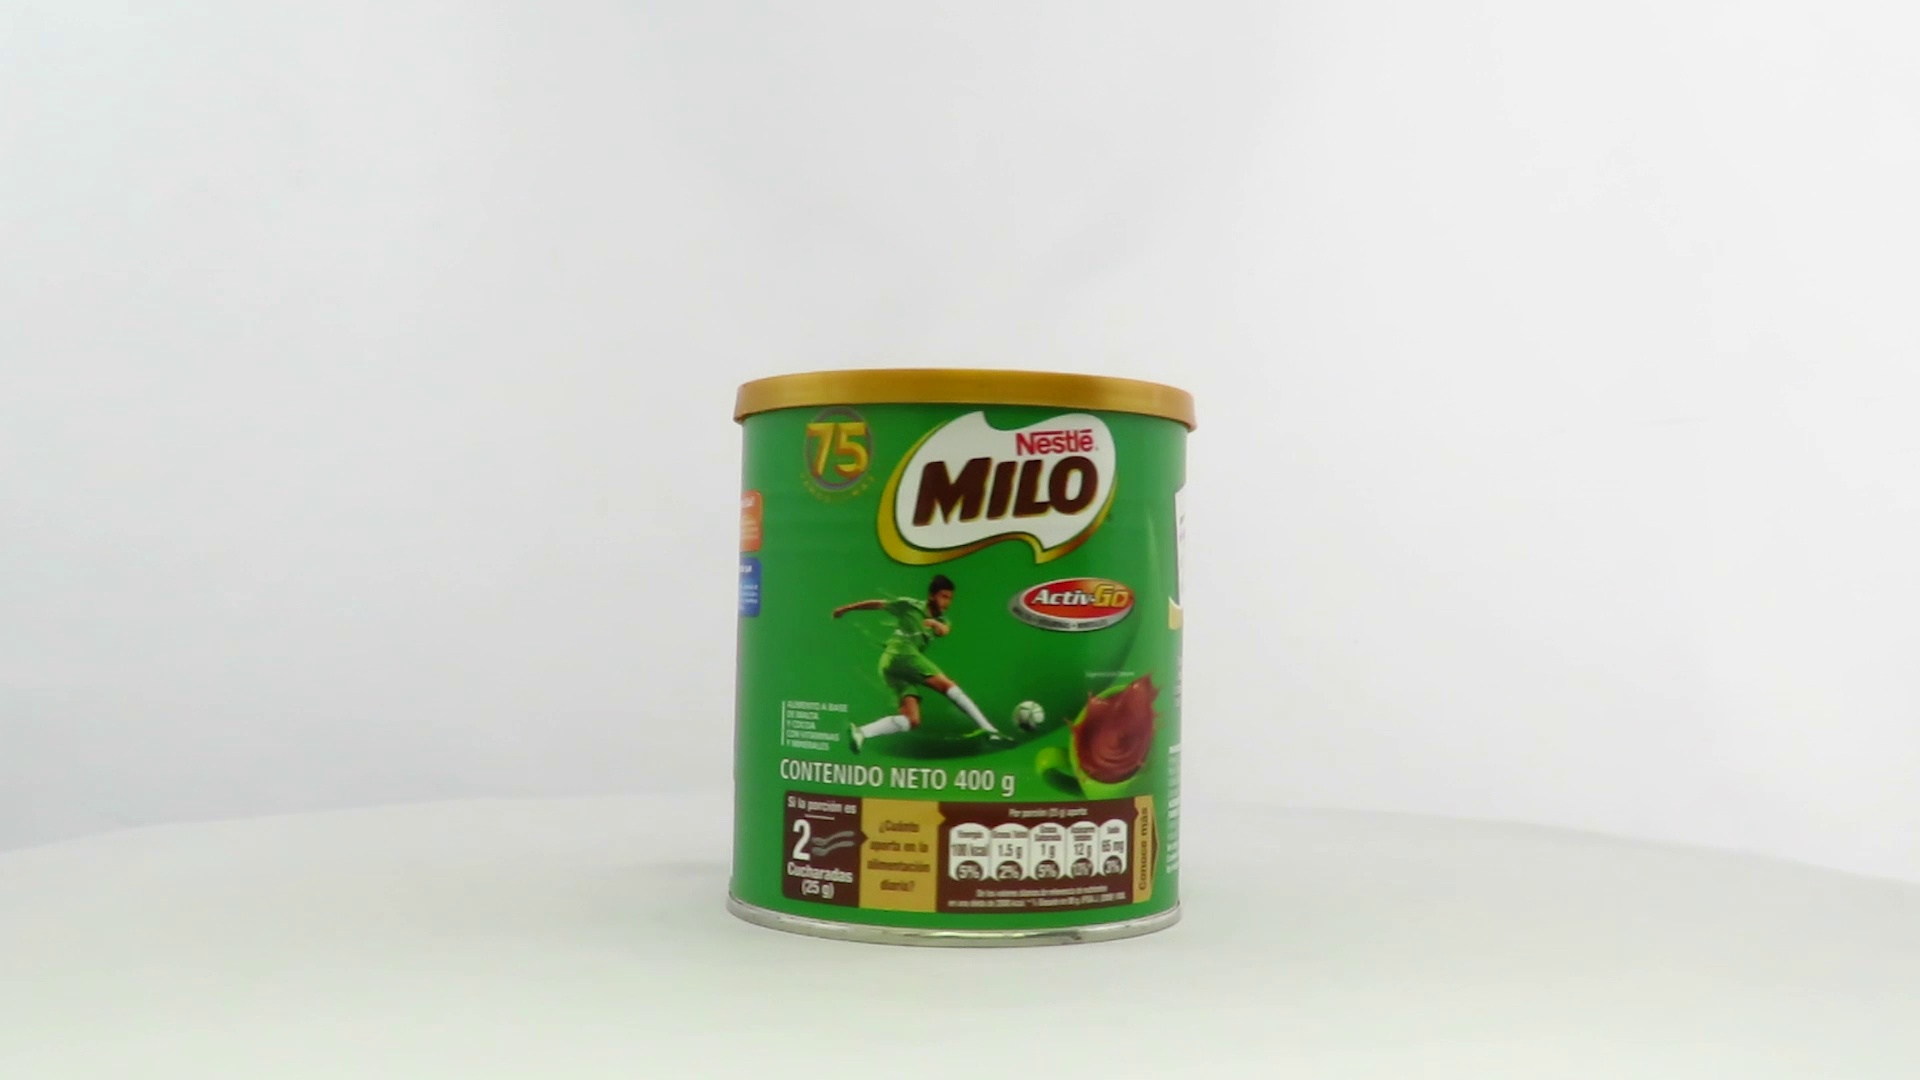COL0170203LAT40000: (720, 363, 1203, 955)
